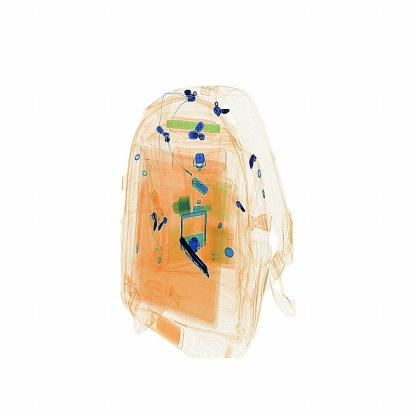knife: (177, 237, 213, 281)
